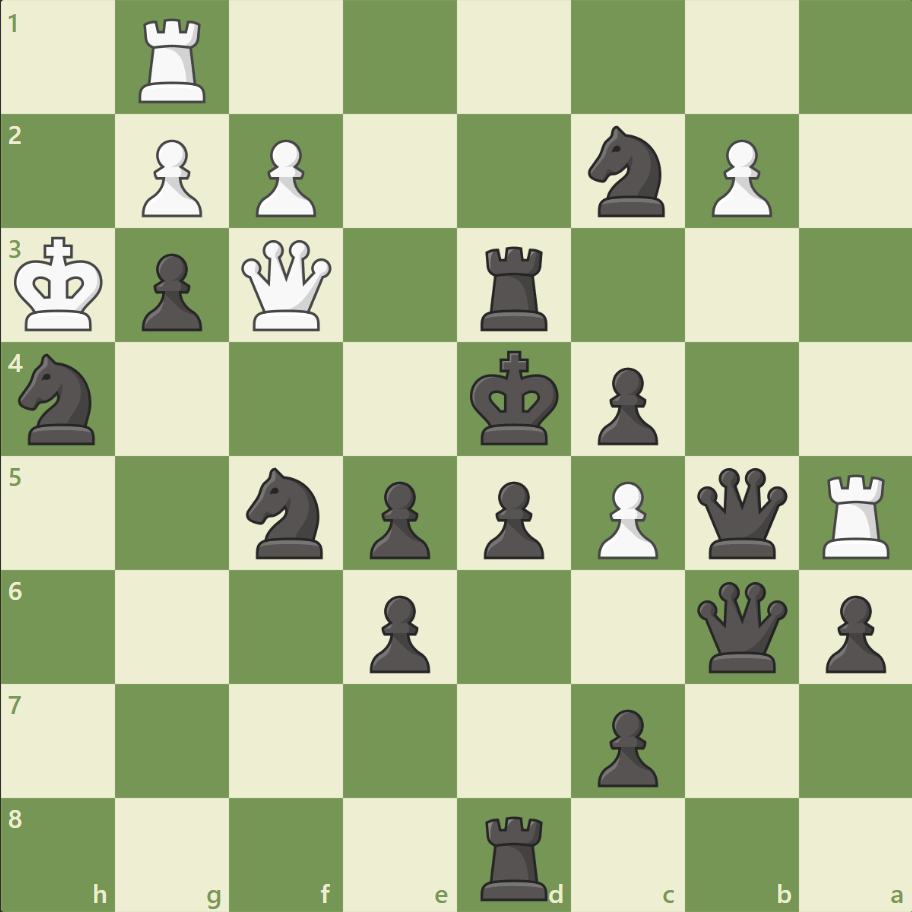K: (11, 231, 111, 339)
P: (701, 132, 776, 223), (247, 132, 322, 223), (133, 132, 208, 223), (588, 473, 662, 564)
Q: (237, 236, 336, 335)
R: (814, 466, 897, 563), (133, 12, 215, 109)
k: (465, 344, 565, 452)
n: (238, 461, 335, 564), (11, 348, 108, 450), (579, 121, 676, 223)
p: (474, 473, 549, 564), (133, 246, 208, 337), (588, 700, 662, 791), (815, 586, 889, 677), (361, 586, 435, 677), (361, 473, 435, 564), (588, 359, 662, 450)
q: (691, 576, 790, 676), (691, 463, 790, 562)
r: (473, 806, 556, 904), (473, 239, 556, 336)
